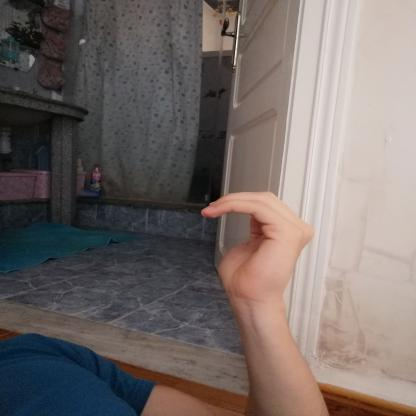HAA: (186, 180, 326, 300)
